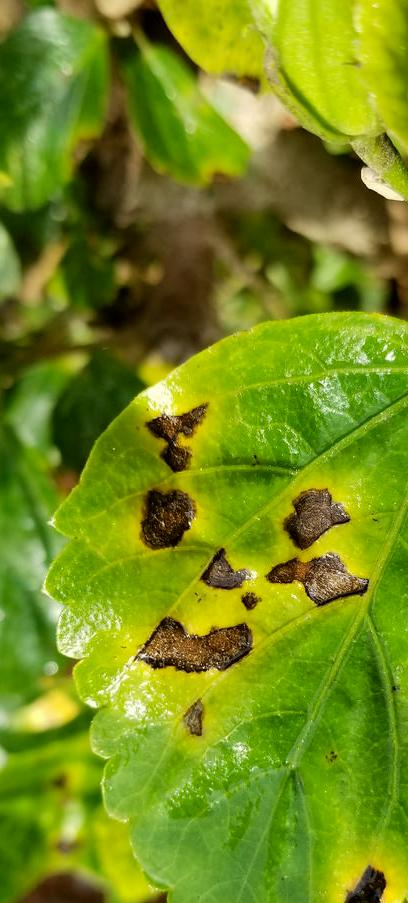Tomato leaf bacterial spot: (26, 310, 408, 903)
